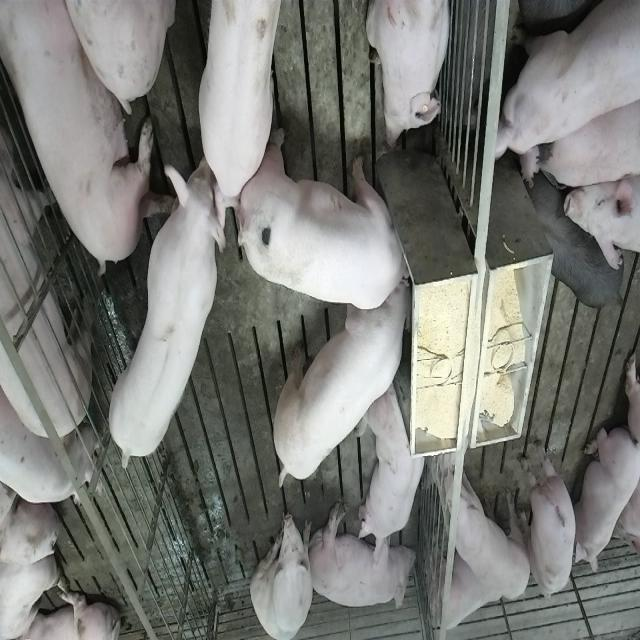Feeding: (243, 128, 420, 310), (268, 280, 411, 496)
Lateral_lying: (308, 500, 416, 612)
Sitting: (250, 503, 314, 638)
Standing: (0, 0, 95, 446), (102, 161, 223, 479), (492, 0, 638, 182), (196, 0, 286, 210), (0, 381, 101, 508), (527, 184, 623, 310), (444, 466, 532, 600), (536, 88, 640, 192), (526, 432, 578, 608), (566, 172, 640, 270)
Sternal_lying: (365, 0, 453, 151), (362, 383, 432, 560), (573, 425, 637, 575)
